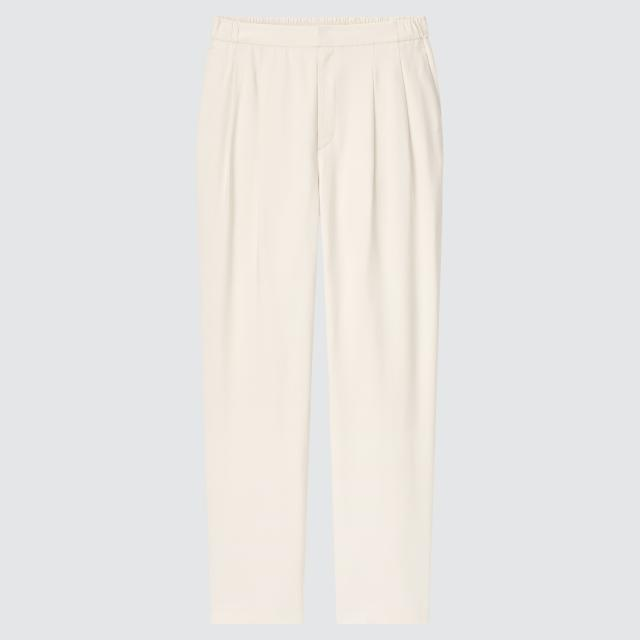long-pants: (194, 16, 446, 630)
